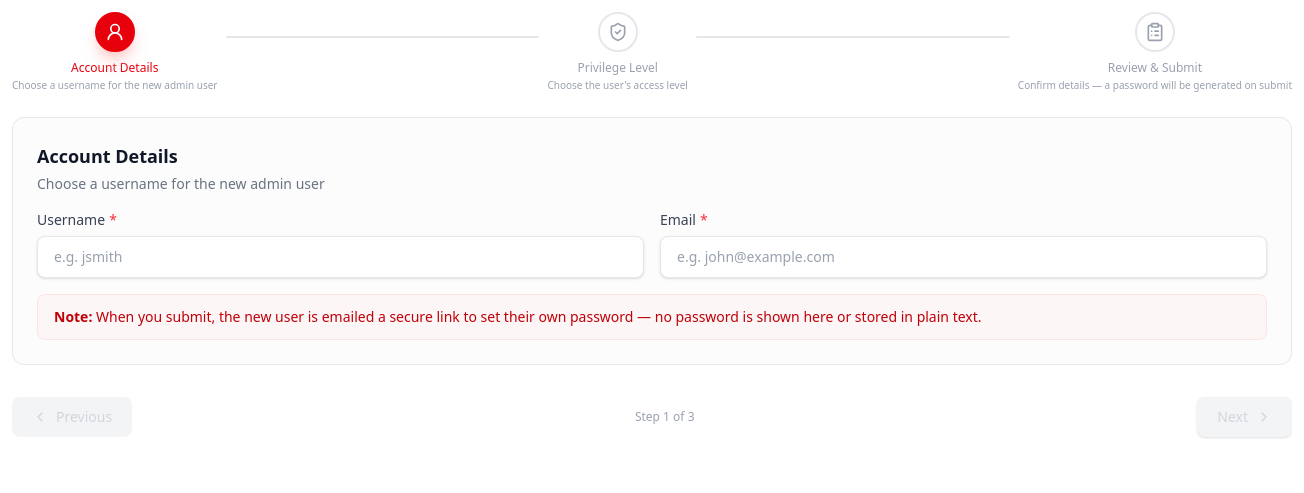
UserForm Component › Step 1 — Account Details Validation › advances to step 2 with valid data
Type "johndoe" into the field with placeholder "e.g. jsmith".
click(340, 257); type("johndoe")  # box [37, 236, 644, 278]
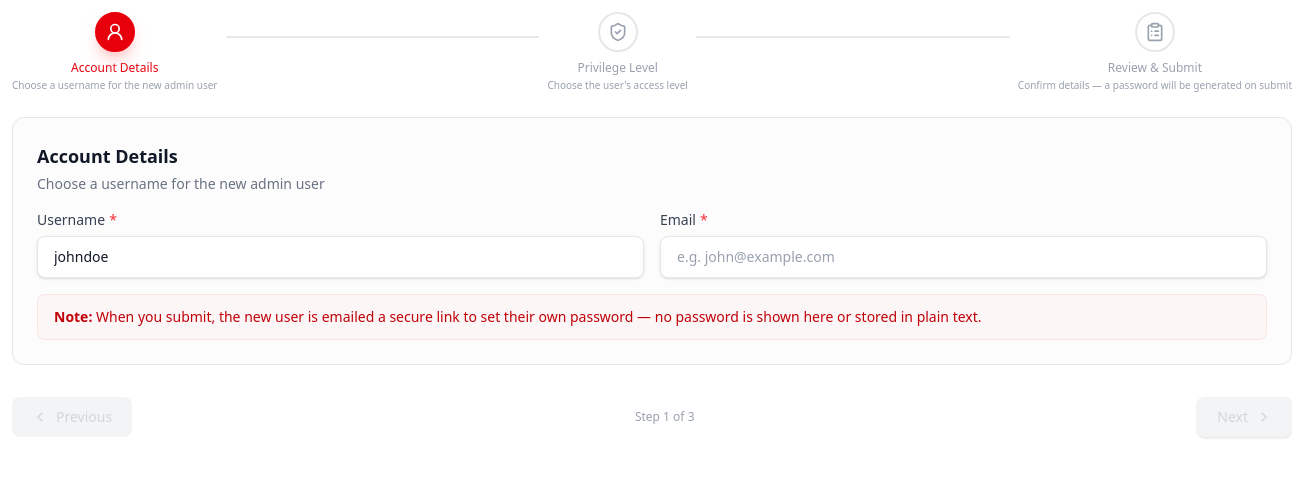
Type "john@example.com" into the field with placeholder "e.g. john@example.com".
click(964, 257); type("john@example.com")  # box [660, 236, 1267, 278]
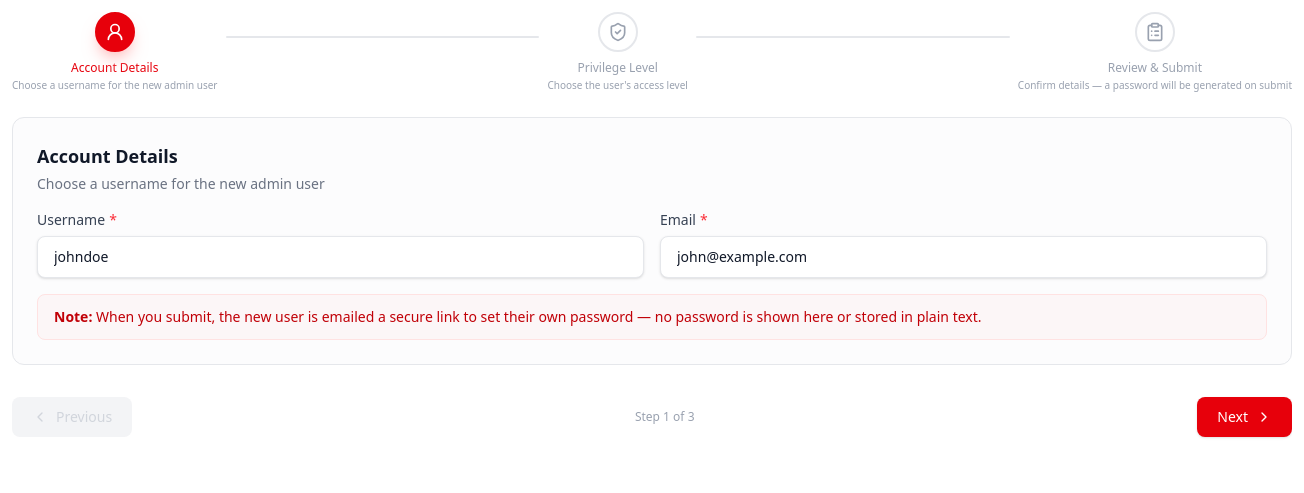
Click the button "Next".
click(1245, 417)  # box [1197, 397, 1292, 437]
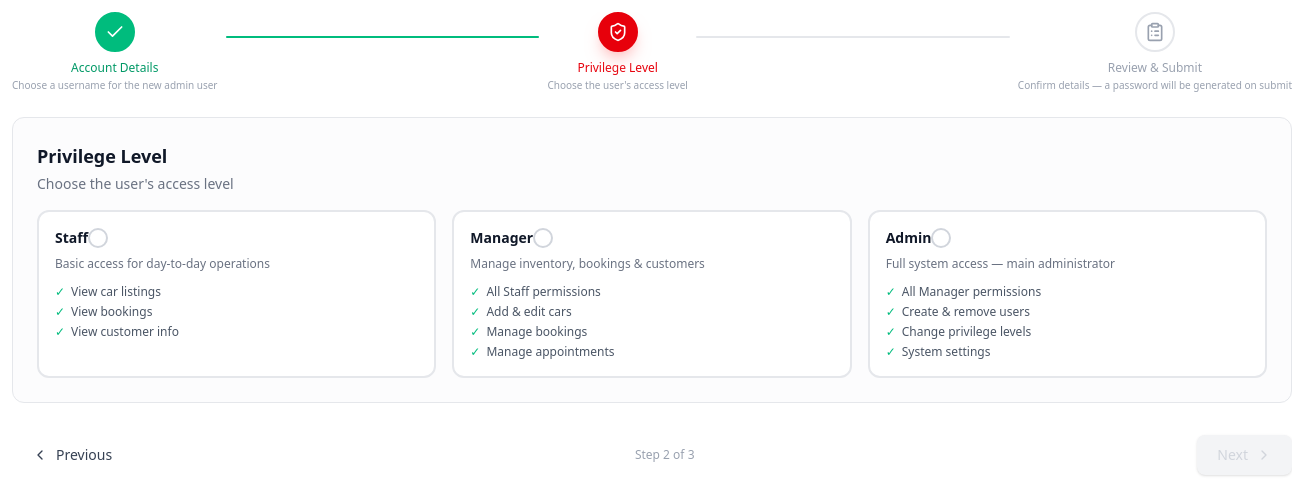
Expected: the heading "Privilege Level" is shown, [37, 144, 167, 168]
